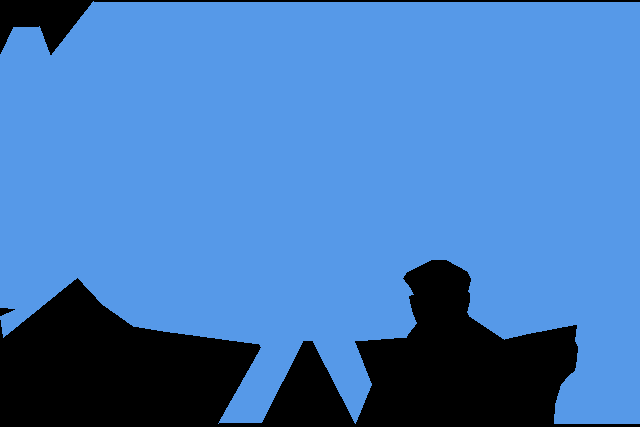Airplane: (0, 1, 640, 424)
